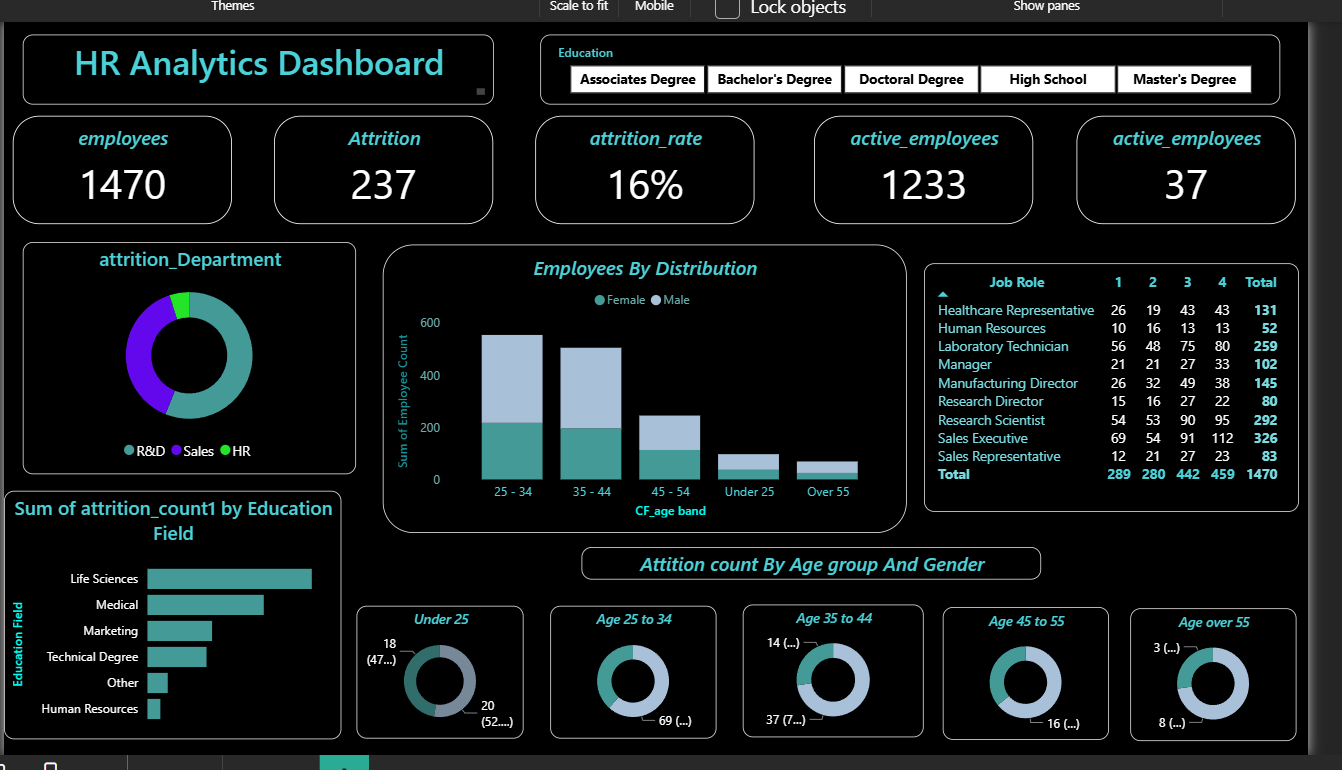

The dashboard page shown, as its layout file describes it:
{"tool":"powerbi","page":{"name":"Page 1","canvas":[1280,720],"ordinal":0},"visuals":[{"type":"card","title":"employees","fields":{"Values":["Sum(HR data.Employee Count)"]},"box":[9.1,92.2,215.6,106.5],"z":0},{"type":"card","title":"Attrition","fields":{"Values":["Sum(HR data.attrition_count1)"]},"box":[264.9,92.2,215.6,106.5],"z":1000},{"type":"card","title":"attrition_rate","fields":{"Values":["HR data.attrition_rate"]},"box":[522.1,92.2,215.6,106.5],"z":2000},{"type":"card","title":"active_employees","fields":{"Values":["HR data.active_employees"]},"box":[794.8,92.2,215.6,106.5],"z":3000},{"type":"card","title":"active_employees","fields":{"Values":["Avg(HR data.Age)"]},"box":[1053.2,92.2,215.6,106.5],"z":4000},{"type":"donutChart","title":"attrition_Department","fields":{"Category":["HR data.Department"],"Y":["Sum(HR data.attrition_count1)"]},"box":[18.4,225.8,354.6,234.4],"z":5000},{"type":"columnChart","title":"Employees By Distribution","fields":{"Category":["HR data.CF_age band"],"Y":["Sum(HR data.Employee Count)"],"Series":["HR data.Gender"]},"box":[343.6,220.9,546,234.4],"z":6000},{"type":"pivotTable","fields":{"Rows":["HR data.Job Role"],"Values":["Sum(HR data.Employee Count)"],"Columns":["HR data.Job Satisfaction"]},"box":[900.6,216,368.1,244.2],"z":7000},{"type":"clusteredBarChart","fields":{"Y":["Sum(HR data.attrition_count1)"],"Category":["HR data.Education Field"]},"box":[0,460.1,331.3,244.2],"z":8000},{"type":"donutChart","title":"Under 25","fields":{"Series":["HR data.CF_age band"],"Category":["HR data.Gender"],"Y":["Sum(HR data.attrition_count1)"]},"box":[331.3,573,163.2,131.3],"z":9000},{"type":"donutChart","title":"Age 35 to 44","fields":{"Series":["HR data.CF_age band"],"Category":["HR data.Gender"],"Y":["Sum(HR data.attrition_count1)"]},"box":[696.9,573,177.9,131.3],"z":10000},{"type":"donutChart","title":"Age 25 to 34","fields":{"Series":["HR data.CF_age band"],"Category":["HR data.Gender"],"Y":["Sum(HR data.attrition_count1)"]},"box":[512.9,573,163.2,131.3],"z":11000},{"type":"donutChart","title":"Age 45 to 55","fields":{"Series":["HR data.CF_age band"],"Category":["HR data.Gender"],"Y":["Sum(HR data.attrition_count1)"]},"box":[903.1,574.2,163.2,131.3],"z":12000},{"type":"donutChart","title":"Age over 55","fields":{"Series":["HR data.CF_age band"],"Category":["HR data.Gender"],"Y":["Sum(HR data.attrition_count1)"]},"box":[1089.6,574.2,163.2,131.3],"z":13000},{"type":"textbox","title":"Attition count By Age group And Gender","box":[595.1,505.5,435.6,29.4],"z":14000},{"type":"textbox","title":"HR Analytics Dashboard","box":[18.4,12.3,462.6,68.7],"z":15000},{"type":"slicer","fields":{"Values":["HR data.Education"]},"box":[526.4,12.3,726.4,68.7],"z":16000}]}

Visuals, with their boxes on the page's 1280x720 design canvas (x1, y1, x2, y2). These are canvas units, not pixel positions in the 1342x770 screenshot, which may show the page scaled, cropped or inside an application window:
"employees" card: bbox(9, 92, 225, 199)
"Attrition" card: bbox(265, 92, 480, 199)
"attrition_rate" card: bbox(522, 92, 738, 199)
"active_employees" card: bbox(795, 92, 1010, 199)
"active_employees" card: bbox(1053, 92, 1269, 199)
"attrition_Department" donutChart: bbox(18, 226, 373, 460)
"Employees By Distribution" columnChart: bbox(344, 221, 890, 455)
pivotTable - HR data.Job Role x Sum(HR data.Employee Count): bbox(901, 216, 1269, 460)
clusteredBarChart - Sum(HR data.attrition_count1) x HR data.Education Field: bbox(0, 460, 331, 704)
"Under 25" donutChart: bbox(331, 573, 494, 704)
"Age 35 to 44" donutChart: bbox(697, 573, 875, 704)
"Age 25 to 34" donutChart: bbox(513, 573, 676, 704)
"Age 45 to 55" donutChart: bbox(903, 574, 1066, 706)
"Age over 55" donutChart: bbox(1090, 574, 1253, 706)
"Attition count By Age group And Gender" textbox: bbox(595, 506, 1031, 535)
"HR Analytics Dashboard" textbox: bbox(18, 12, 481, 81)
slicer - HR data.Education: bbox(526, 12, 1253, 81)
